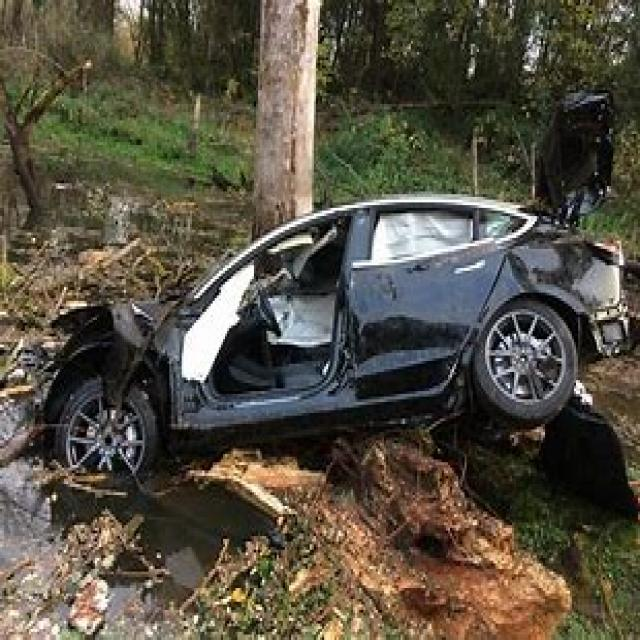Accident: (25, 177, 622, 528)
